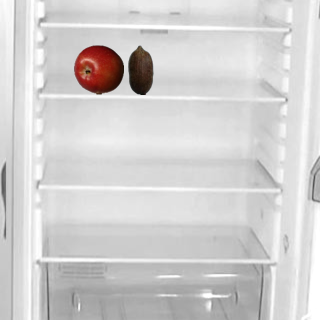Apple Braeburn: (73, 44, 123, 94)
Nut Pecan: (115, 44, 165, 94)
